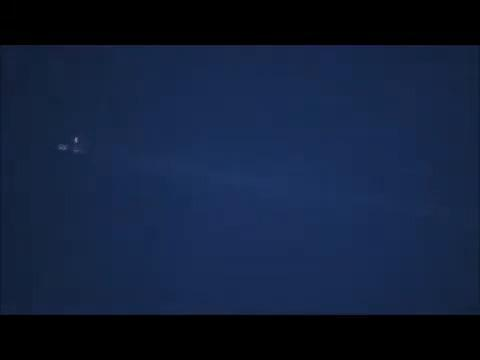Plane: (40, 129, 103, 163)
